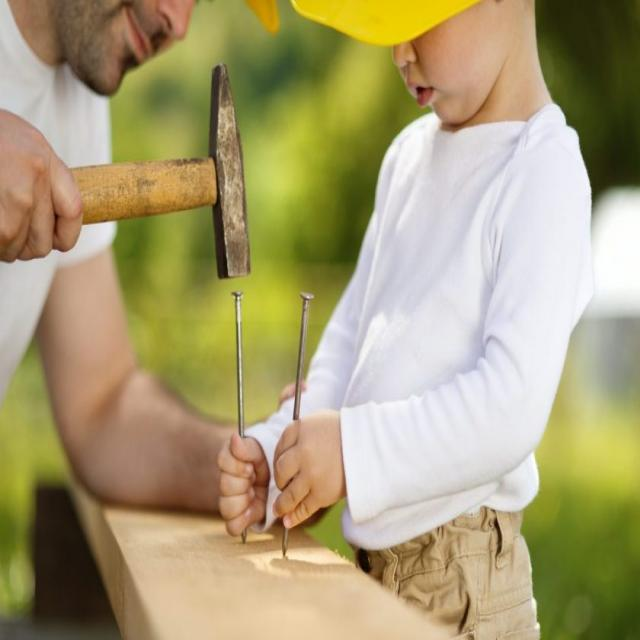hammer: (44, 57, 258, 301)
